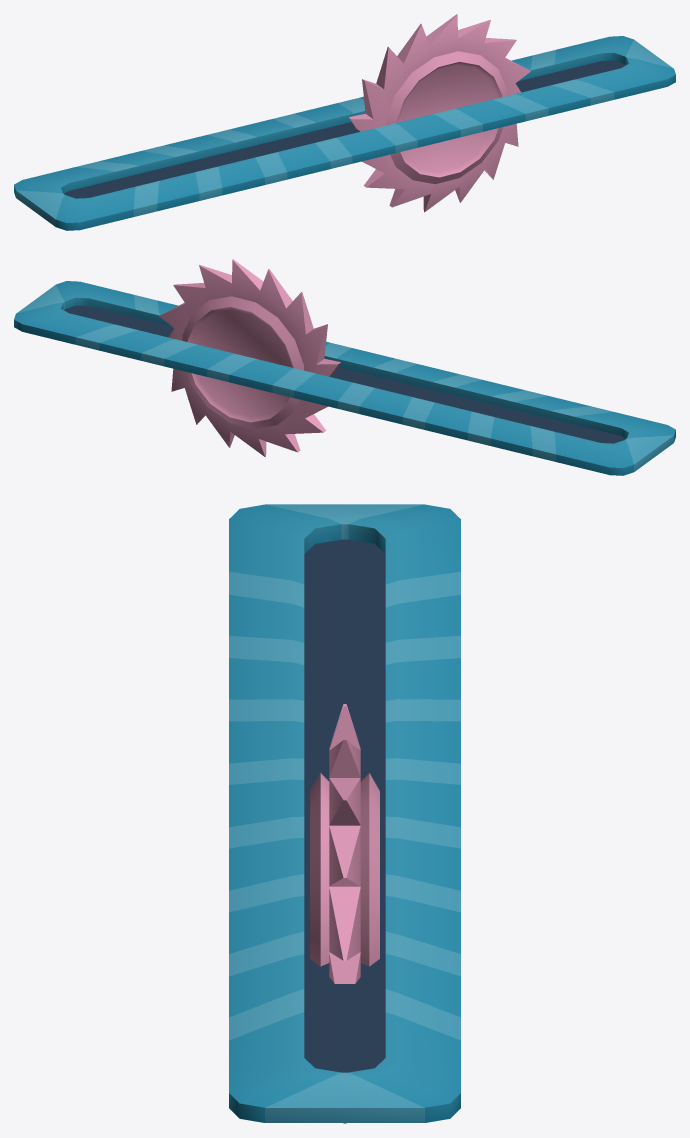
The model's file is Obstacle-10.fbx.
The picture shows the model from 3 angles, top to bottom: view 1: azimuth 30°, elevation 25°; view 2: azimuth 150°, elevation 25°; view 3: azimuth 270°, elevation 25°; orthographic projection. The views are drawn at different scales.
Parts seen in each view (by area): view 1: Obs-10, Obs-10-S; view 2: Obs-10, Obs-10-S; view 3: Obs-10, Obs-10-S.
Part boxes in pixels (x1=…): Obs-10: x1=14, y1=36, x2=675, y2=230; Obs-10-S: x1=349, y1=14, x2=530, y2=212; Obs-10: x1=14, y1=281, x2=675, y2=475; Obs-10-S: x1=159, y1=259, x2=340, y2=457; Obs-10: x1=229, y1=504, x2=460, y2=1122; Obs-10-S: x1=310, y1=704, x2=379, y2=1123.
Size of the model in its own units: 7.18 by 2.11 by 1.17.
